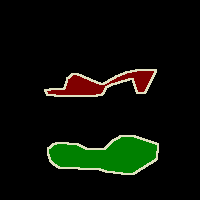shoe: (48, 135, 158, 174), (45, 70, 156, 96)
